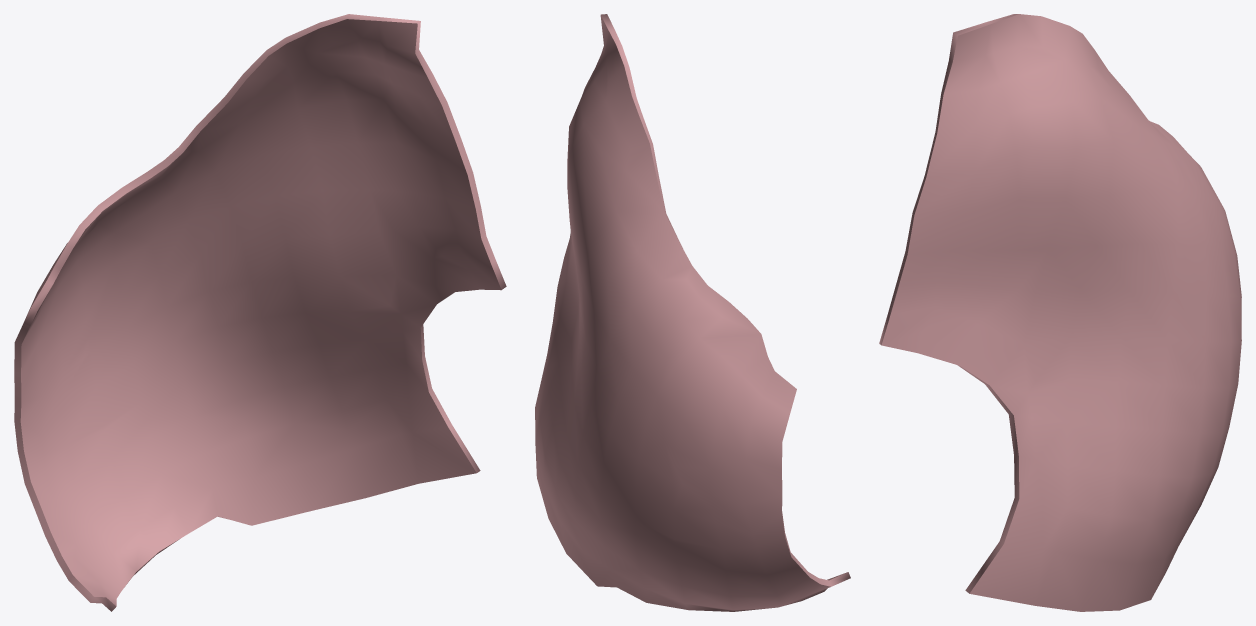
3 renders of one model, left to right at view 1: azimuth 30°, elevation 25°; view 2: azimuth 150°, elevation 25°; view 3: azimuth 270°, elevation 25°, orthographic. The views are drawn at different scales.
Visible parts, largest first — view 1: ZA_c0df34ba30a814a6; view 2: ZA_c0df34ba30a814a6; view 3: ZA_c0df34ba30a814a6.
Part boxes in pixels (box(x1,y1,x2,y2)): ZA_c0df34ba30a814a6: box(14, 14, 506, 611); ZA_c0df34ba30a814a6: box(535, 14, 850, 611); ZA_c0df34ba30a814a6: box(879, 14, 1241, 611).
Bounding box in the file's own units: 0.1706 × 0.2455 × 0.1306.
